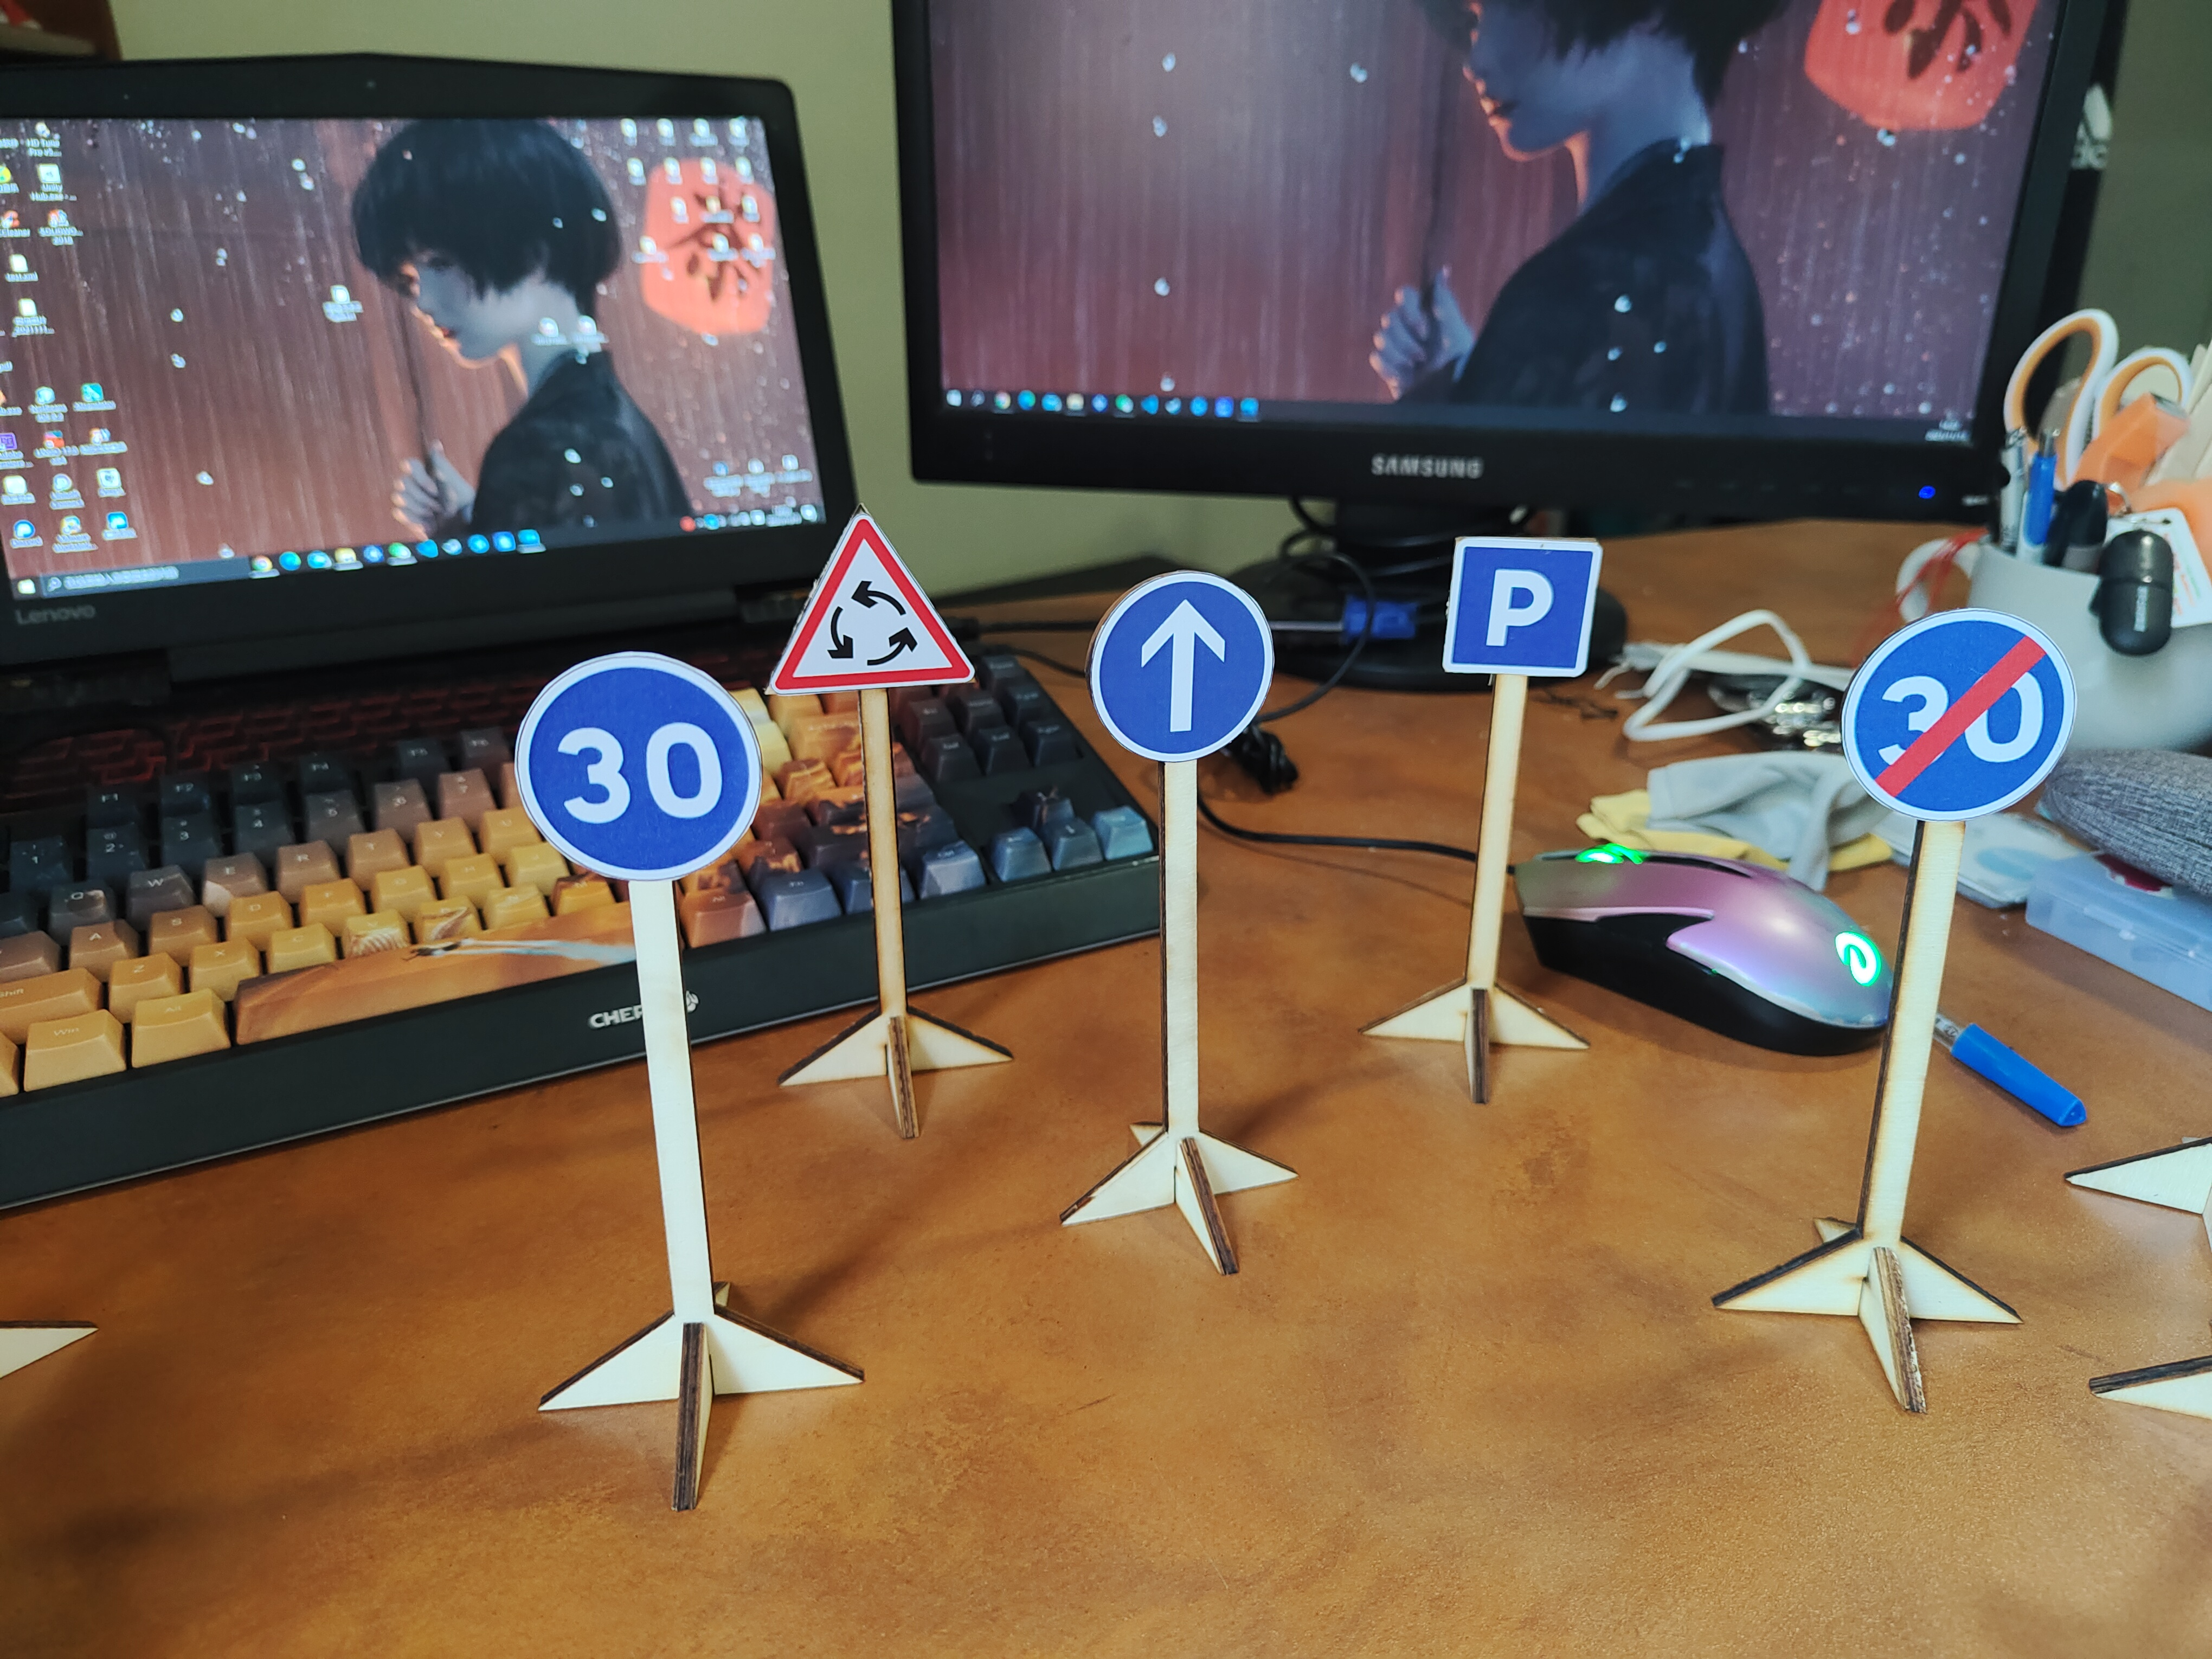P: (1446, 533, 1595, 690)
ban: (1843, 612, 2073, 817)
cycle: (766, 511, 968, 697)
straight: (1092, 575, 1271, 760)
thirty: (516, 660, 756, 877)
